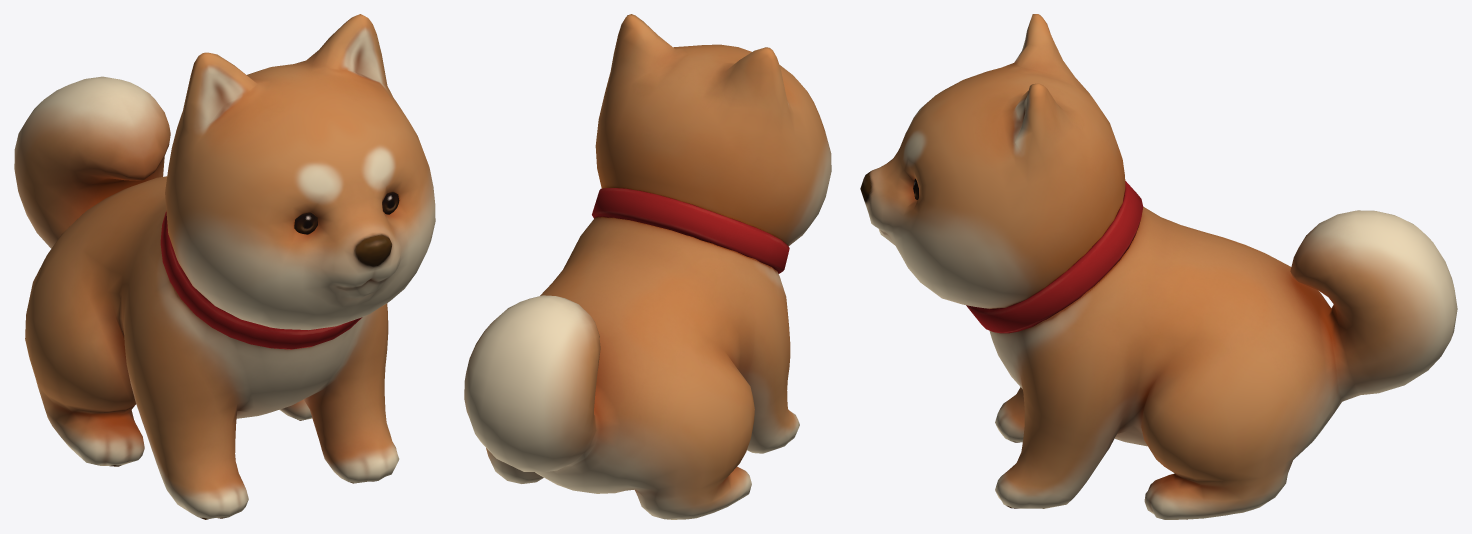
Rendered from shiba (1).obj.
3 renders of one model, left to right at view 1: azimuth 30°, elevation 25°; view 2: azimuth 150°, elevation 25°; view 3: azimuth 270°, elevation 25°, orthographic. The views are drawn at different scales.
Parts seen in each view (by area): view 1: Box002_default_0, Group18985_default_0, Object001_default_0; view 2: Box002_default_0, Group18985_default_0; view 3: Box002_default_0, Group18985_default_0.
Boxes of the visible parts, x1,y1,x2,y2 form: Box002_default_0: (14, 14, 435, 519); Group18985_default_0: (160, 211, 362, 349); Object001_default_0: (294, 192, 399, 234); Box002_default_0: (464, 14, 831, 519); Group18985_default_0: (592, 188, 789, 273); Box002_default_0: (860, 14, 1457, 519); Group18985_default_0: (966, 181, 1143, 333).
Size of the model in its own units: 0.9209 by 1.38 by 1.77.
1 material, 1 textured.
